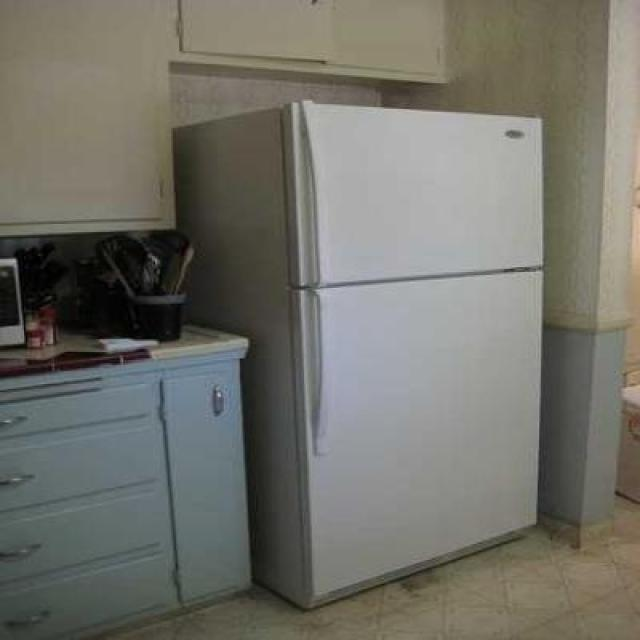refrigerator: (260, 90, 542, 608)
